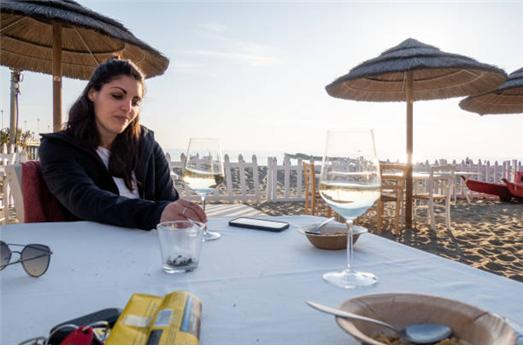alcohol: (317, 130, 382, 289), (181, 136, 224, 242)
